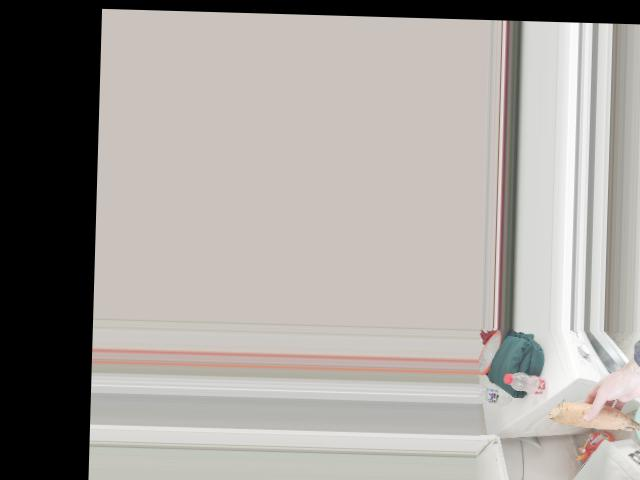sweet_potato: (544, 398, 640, 427)
